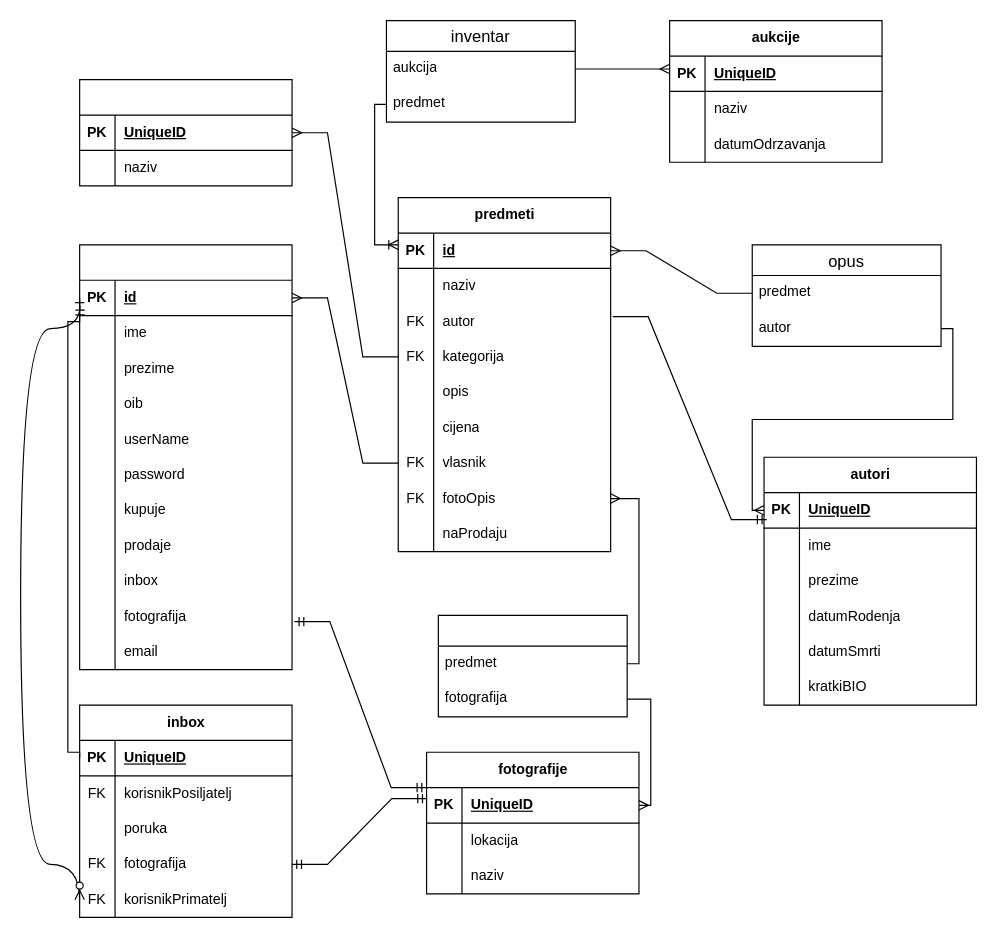
This 997x938 diagram has some shape labels left out. The box of each missing label's shape, as (x1, y1, x2, y2) in pixels:
fotoOpisi: (437, 614, 627, 717)
kategorije: (78, 78, 292, 186)
korisnici: (78, 244, 292, 670)
